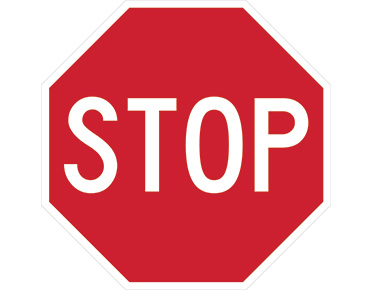stopsign: (42, 1, 330, 288)
